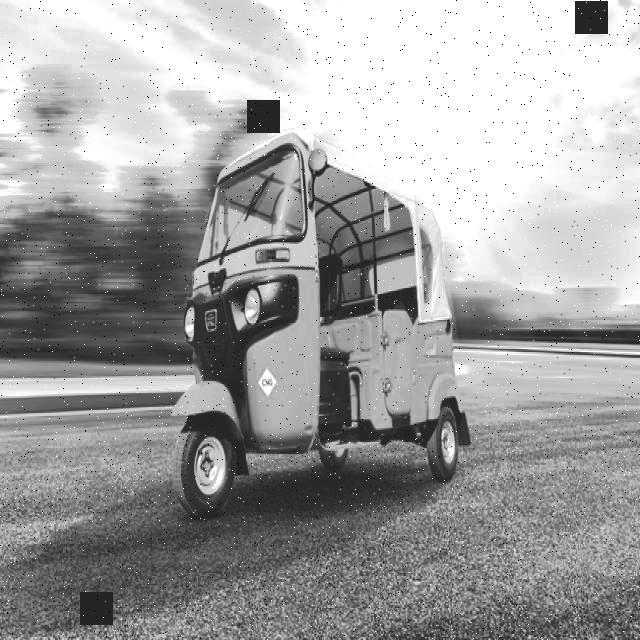Auto-Rickshaw: (147, 122, 480, 540)
